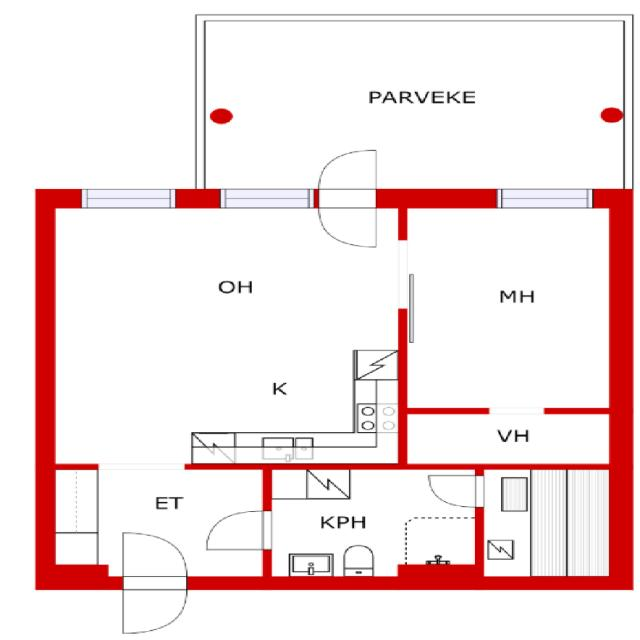door: (122, 576, 188, 635), (122, 531, 188, 590), (317, 189, 378, 250), (317, 148, 378, 208), (206, 510, 272, 549), (430, 476, 484, 508)
